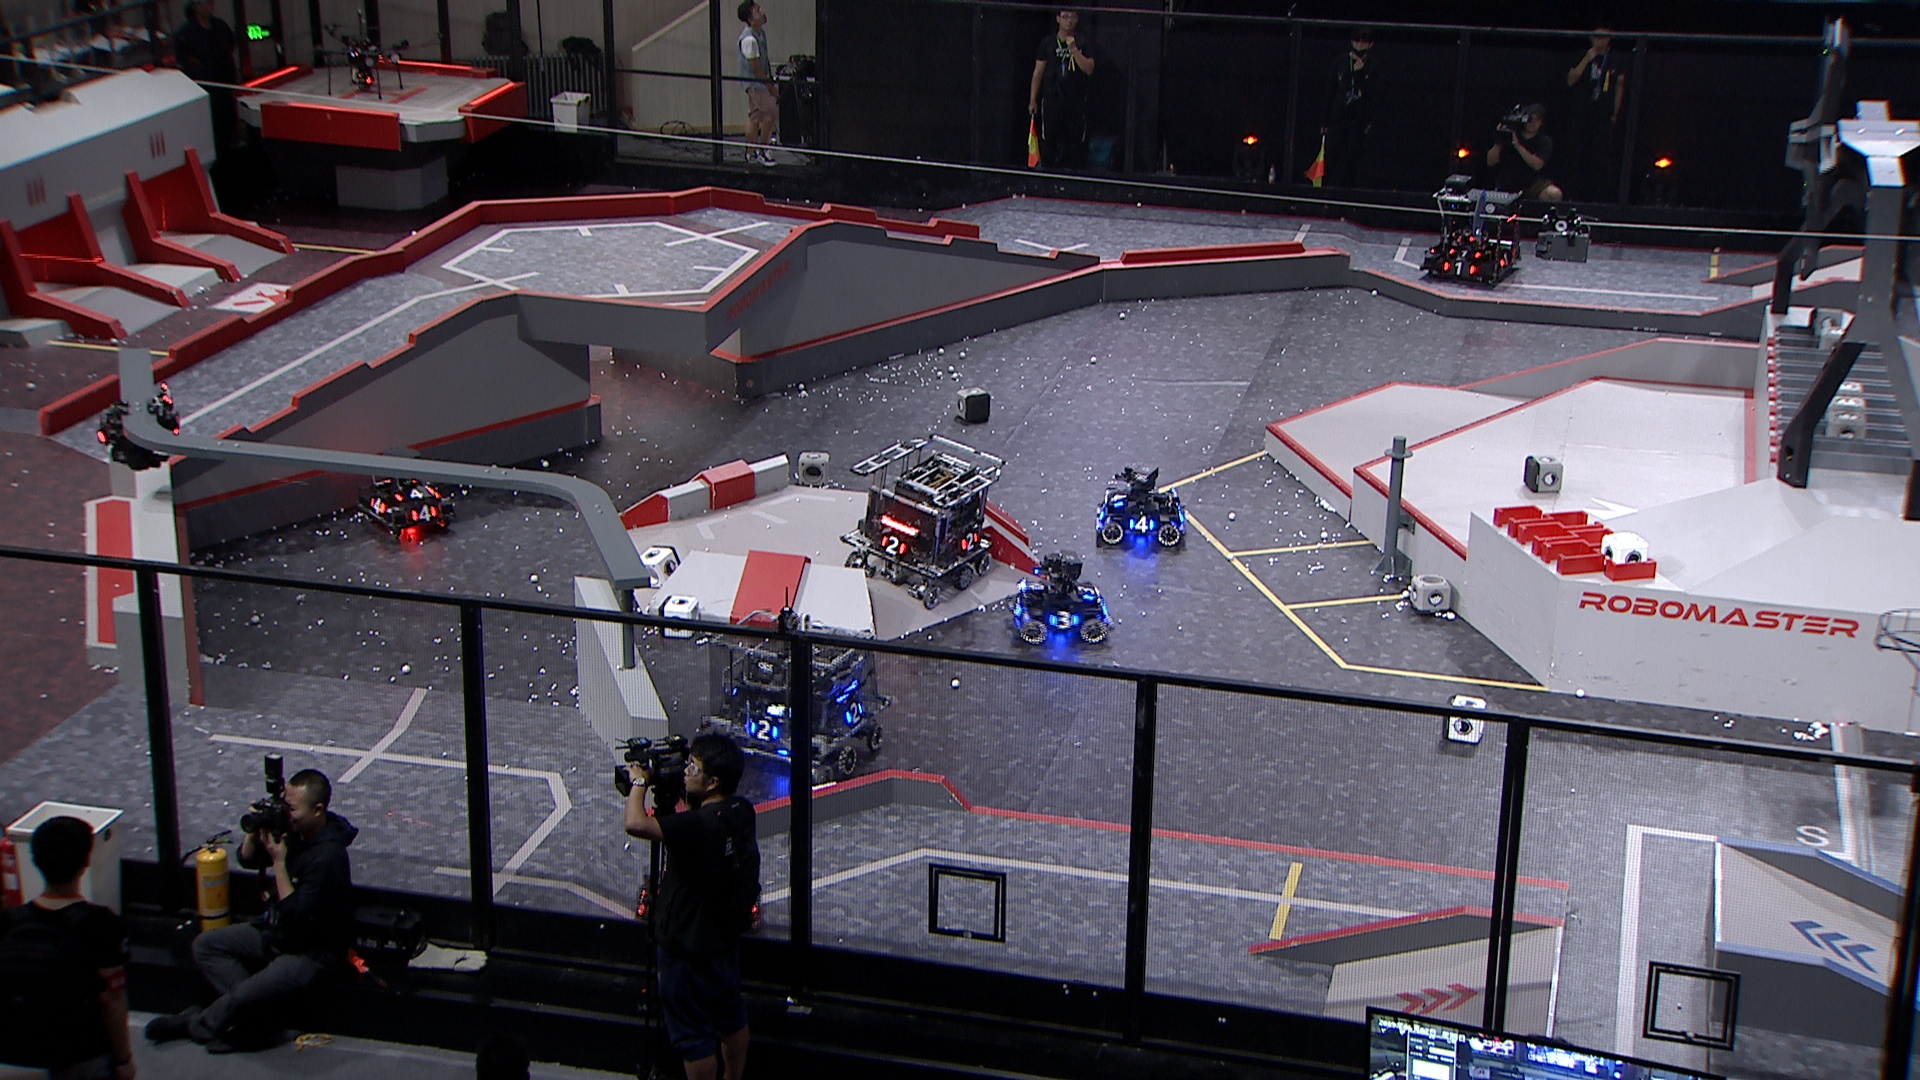armor: (749, 716, 779, 742), (392, 485, 436, 502), (1048, 608, 1081, 629), (880, 534, 907, 556), (1126, 513, 1155, 534), (409, 502, 438, 524), (1441, 258, 1477, 276), (844, 698, 865, 725), (1447, 244, 1484, 258), (1106, 487, 1129, 509), (368, 495, 389, 517), (1077, 580, 1097, 603), (1007, 593, 1025, 618), (960, 531, 978, 551), (1498, 249, 1514, 270)
car: (694, 608, 884, 789), (839, 433, 1005, 607), (1419, 169, 1523, 284), (1007, 545, 1112, 645), (345, 444, 454, 541), (1096, 463, 1189, 549)
watcher: (96, 380, 186, 475)
